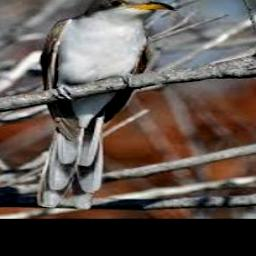Cuckoo: (38, 0, 174, 207)
